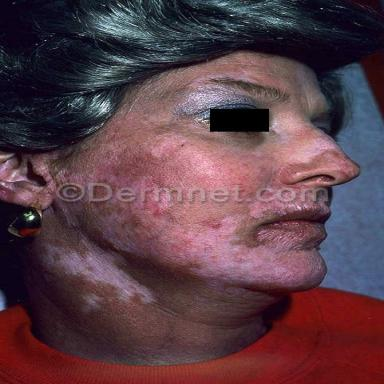Lupus-Erythematosus-Chronicus-Discoides: (38, 202, 333, 309), (55, 132, 253, 187), (280, 130, 360, 178), (79, 292, 103, 313)
